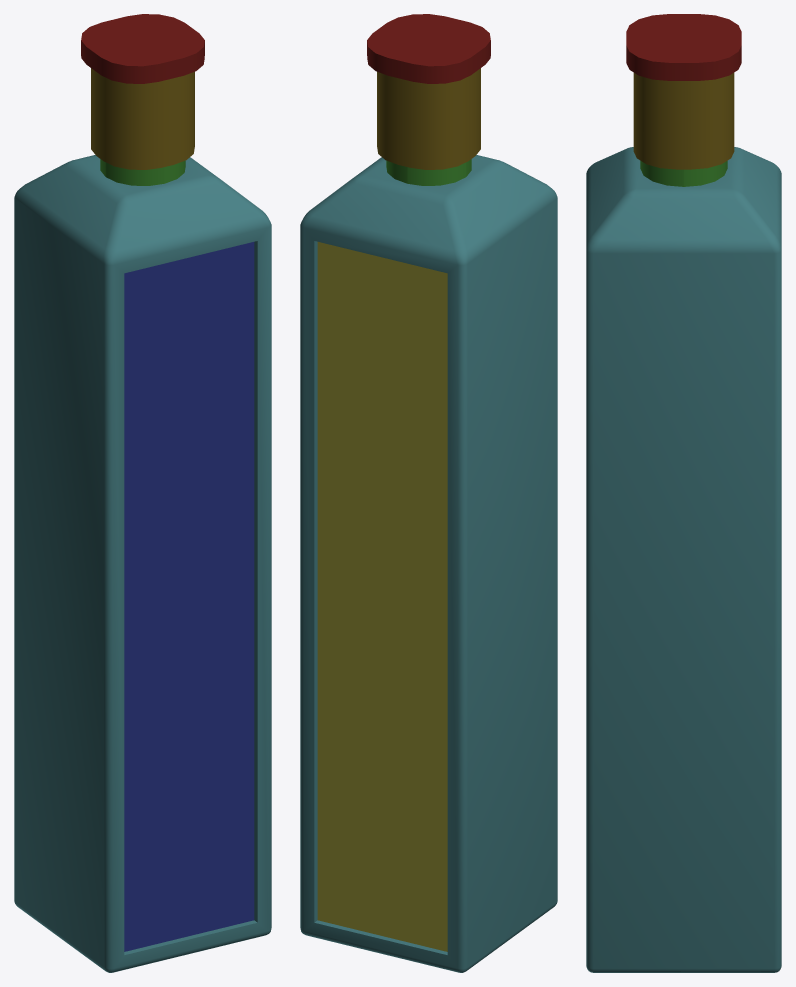
Rendered from Bottle_Style_03.fbx.
3 renders of one model, left to right at view 1: azimuth 30°, elevation 25°; view 2: azimuth 150°, elevation 25°; view 3: azimuth 270°, elevation 25°, orthographic.
Parts seen in each view (by area): view 1: SetA_Bottle_Style_03; view 2: SetA_Bottle_Style_03; view 3: SetA_Bottle_Style_03.
Boxes of the visible parts, x1,y1,x2,y2 form: SetA_Bottle_Style_03: (14,14,271,972); SetA_Bottle_Style_03: (300,14,557,972); SetA_Bottle_Style_03: (586,14,781,972).
Size of the model in its own units: 0.0426 by 0.2156 by 0.0426.
